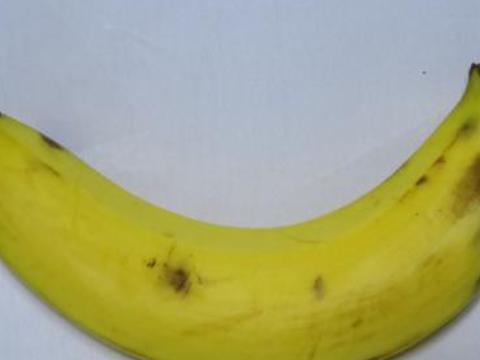freshripe: (0, 41, 479, 359)
